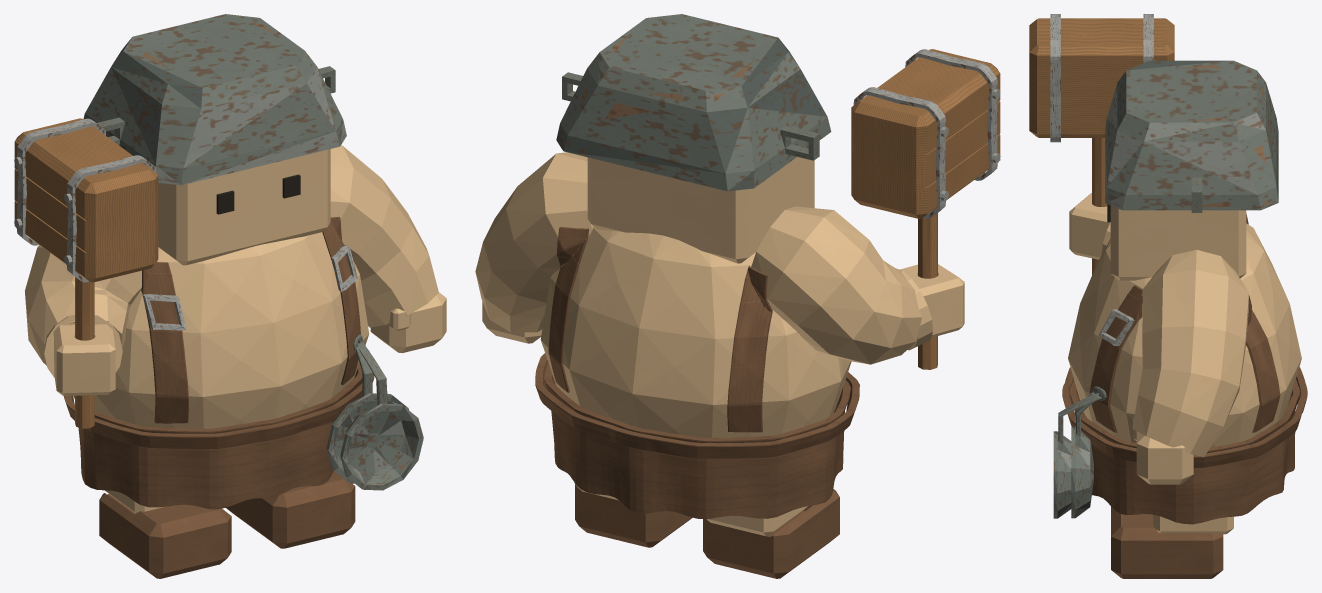
The model's file is host_03.glb.
3 views of the same model, side by side, from view 1: azimuth 30°, elevation 25°; view 2: azimuth 150°, elevation 25°; view 3: azimuth 270°, elevation 25° (orthographic). The views are drawn at different scales.
Parts seen in each view (by area): view 1: Body — one connected broad ogre belly neck arms and short le, Helmet — large angular steel cooking pot crown, Clothing — broad source torn brown skirt, Weapon — compact rectangular X-axis wooden mallet block, Head — continuous source square skull under helmet, Clothing — RIGHT broad planted brown boot, Clothing — LEFT broad planted brown boot, Equipment — LEFT hip real hollow front pan, Hand — RIGHT broad compact mallet grasp source compact plana, Clothing — RIGHT fitted front leather suspender, Clothing — fitted brown belt around actual belly, Clothing — LEFT fitted front leather suspender (+7 smaller); view 2: Body — one connected broad ogre belly neck arms and short le, Helmet — large angular steel cooking pot crown, Clothing — broad source torn brown skirt, Weapon — compact rectangular X-axis wooden mallet block, Head — continuous source square skull under helmet, Clothing — RIGHT broad planted brown boot, Clothing — fitted brown belt around actual belly, Clothing — RIGHT fitted rear leather suspender, Clothing — LEFT broad planted brown boot, Hand — RIGHT broad compact mallet grasp source compact plana, Clothing — LEFT fitted rear leather suspender, Weapon — RIGHT centered wooden mallet shaft (+3 smaller); view 3: Body — one connected broad ogre belly neck arms and short le, Helmet — large angular steel cooking pot crown, Weapon — compact rectangular X-axis wooden mallet block, Clothing — broad source torn brown skirt, Head — continuous source square skull under helmet, Clothing — LEFT broad planted brown boot, Clothing — fitted brown belt around actual belly, Clothing — LEFT fitted front leather suspender, Clothing — LEFT fitted rear leather suspender, Hand — RIGHT broad compact mallet grasp source compact plana, Equipment — LEFT hip real hollow rear pan, Equipment — LEFT hip real hollow front pan (+6 smaller).
Part boxes in pixels (bbox=[...]): Body — one connected broad ogre belly neck arms and short le: bbox=[25, 145, 446, 513]; Helmet — large angular steel cooking pot crown: bbox=[83, 14, 346, 185]; Clothing — broad source torn brown skirt: bbox=[73, 363, 362, 509]; Weapon — compact rectangular X-axis wooden mallet block: bbox=[14, 118, 158, 282]; Head — continuous source square skull under helmet: bbox=[158, 149, 330, 265]; Clothing — RIGHT broad planted brown boot: bbox=[99, 493, 231, 578]; Clothing — LEFT broad planted brown boot: bbox=[226, 471, 355, 548]; Equipment — LEFT hip real hollow front pan: bbox=[340, 403, 423, 490]; Hand — RIGHT broad compact mallet grasp source compact plana: bbox=[43, 314, 122, 395]; Clothing — RIGHT fitted front leather suspender: bbox=[141, 262, 188, 423]; Clothing — fitted brown belt around actual belly: bbox=[63, 373, 374, 448]; Clothing — LEFT fitted front leather suspender: bbox=[322, 217, 360, 385]; Body — one connected broad ogre belly neck arms and short le: bbox=[475, 152, 922, 536]; Helmet — large angular steel cooking pot crown: bbox=[556, 14, 831, 191]; Clothing — broad source torn brown skirt: bbox=[544, 363, 850, 519]; Weapon — compact rectangular X-axis wooden mallet block: bbox=[851, 49, 1000, 218]; Head — continuous source square skull under helmet: bbox=[587, 157, 814, 263]; Clothing — RIGHT broad planted brown boot: bbox=[703, 489, 839, 578]; Clothing — fitted brown belt around actual belly: bbox=[535, 353, 859, 458]; Clothing — RIGHT fitted rear leather suspender: bbox=[727, 266, 772, 432]; Clothing — LEFT broad planted brown boot: bbox=[575, 484, 692, 547]; Hand — RIGHT broad compact mallet grasp source compact plana: bbox=[896, 264, 964, 350]; Clothing — LEFT fitted rear leather suspender: bbox=[548, 226, 588, 392]; Weapon — RIGHT centered wooden mallet shaft: bbox=[918, 207, 937, 369]; Body — one connected broad ogre belly neck arms and short le: bbox=[1068, 223, 1301, 534]; Helmet — large angular steel cooking pot crown: bbox=[1105, 60, 1278, 210]; Weapon — compact rectangular X-axis wooden mallet block: bbox=[1029, 18, 1174, 137]; Clothing — broad source torn brown skirt: bbox=[1070, 379, 1299, 524]; Head — continuous source square skull under helmet: bbox=[1110, 205, 1246, 280]; Clothing — LEFT broad planted brown boot: bbox=[1111, 507, 1223, 578]; Clothing — fitted brown belt around actual belly: bbox=[1062, 367, 1307, 468]; Clothing — LEFT fitted front leather suspender: bbox=[1090, 285, 1142, 432]; Clothing — LEFT fitted rear leather suspender: bbox=[1246, 295, 1280, 432]; Hand — RIGHT broad compact mallet grasp source compact plana: bbox=[1069, 193, 1110, 259]; Equipment — LEFT hip real hollow rear pan: bbox=[1071, 426, 1093, 518]; Equipment — LEFT hip real hollow front pan: bbox=[1053, 431, 1071, 518].
Bounding box in the file's own units: 2.64 × 2.8 × 1.59.
Materials: 11 (10 with a texture image).
